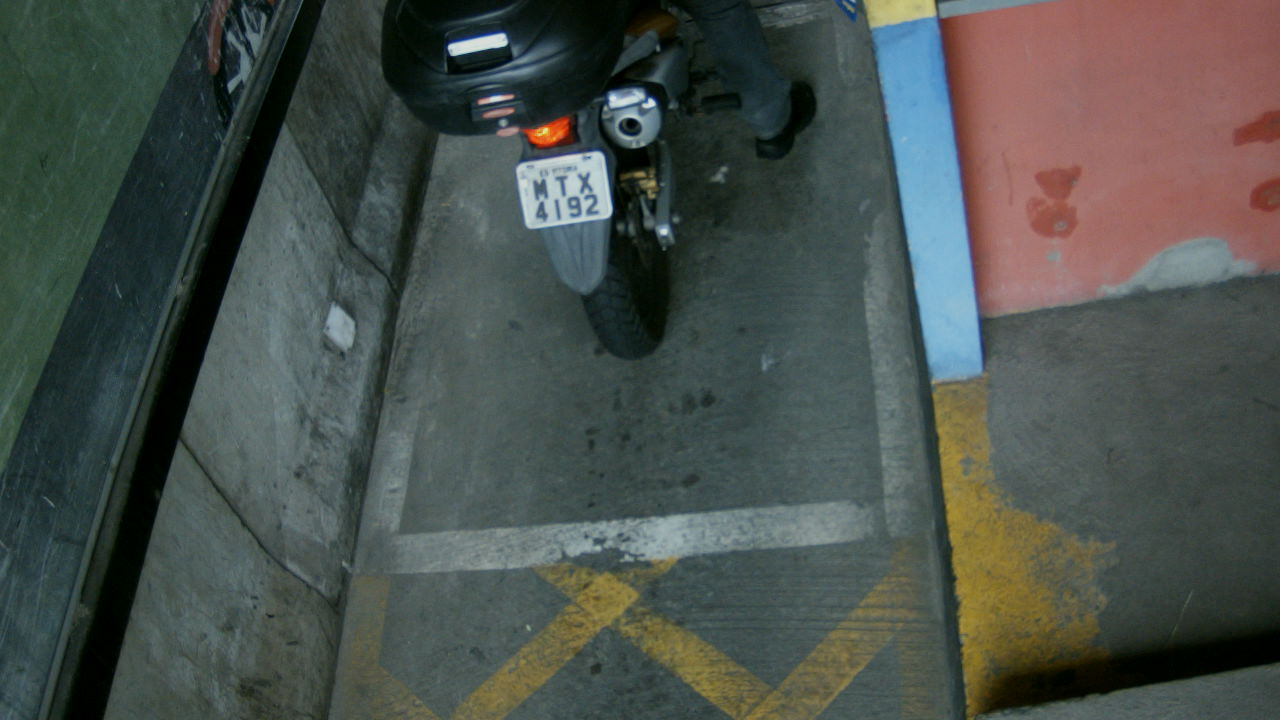placa: (515, 149, 614, 231)
